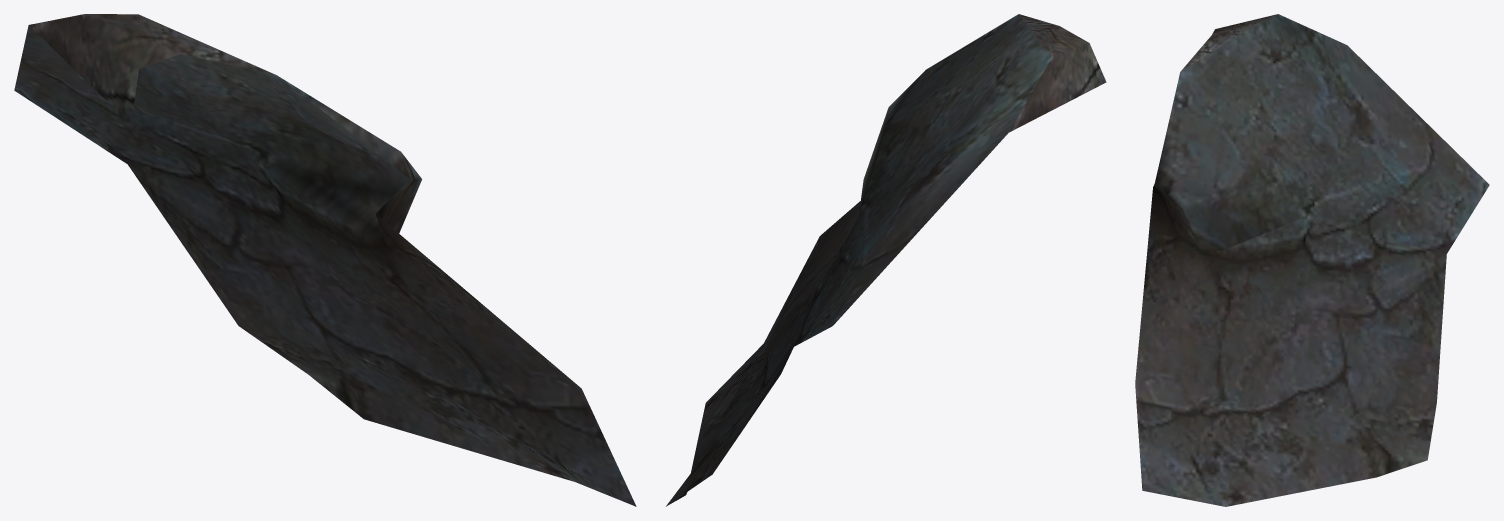
File: S_Rock_Yellow036_H06.FBX
3 views of the same model, side by side, from view 1: azimuth 30°, elevation 25°; view 2: azimuth 150°, elevation 25°; view 3: azimuth 270°, elevation 25° (orthographic). The views are drawn at different scales.
Visible parts, largest first — view 1: S_Rock_Yellow036_H06; view 2: S_Rock_Yellow036_H06; view 3: S_Rock_Yellow036_H06.
Part boxes in pixels (x1,y1,x2,y2): S_Rock_Yellow036_H06: (14, 14, 636, 506); S_Rock_Yellow036_H06: (666, 14, 1106, 506); S_Rock_Yellow036_H06: (1135, 14, 1489, 506).
Bounding box in the file's own units: 807 × 842 × 927.
Materials: 1 (1 with a texture image).
